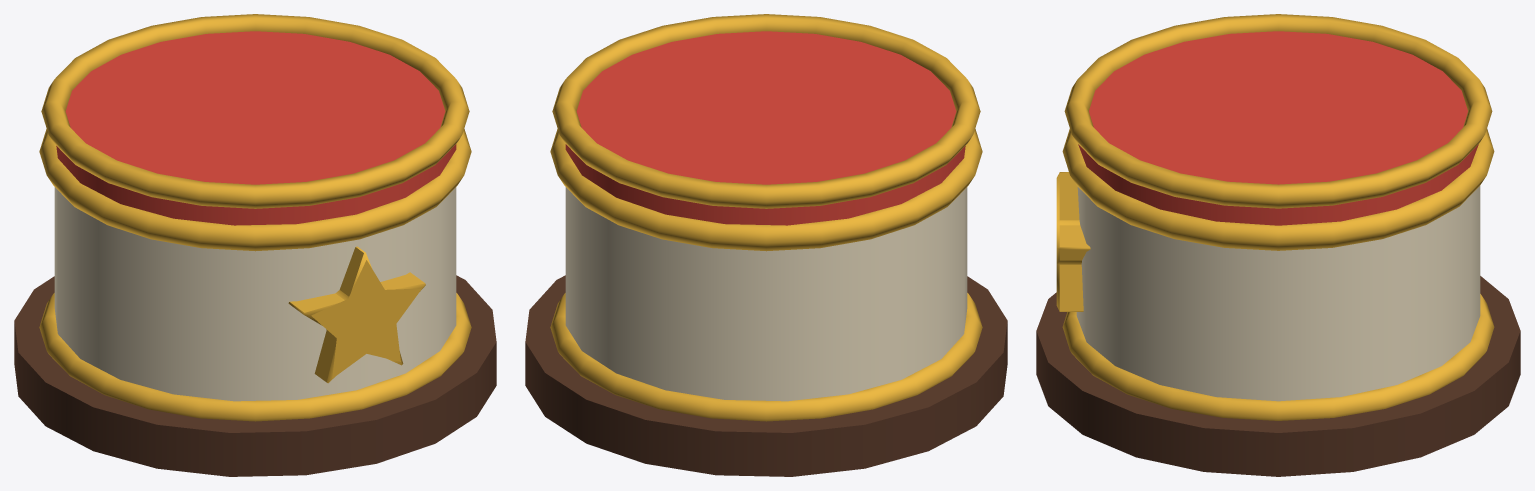
File: trophy_pedestal.glb
3 views of the same model, side by side, from view 1: azimuth 30°, elevation 25°; view 2: azimuth 150°, elevation 25°; view 3: azimuth 270°, elevation 25° (orthographic).
Parts seen in each view (by area): view 1: trophy_pedestal; view 2: trophy_pedestal; view 3: trophy_pedestal.
Part boxes in pixels (box(x1,y1,x2,y2)): trophy_pedestal: box(14, 14, 496, 476); trophy_pedestal: box(525, 14, 1007, 476); trophy_pedestal: box(1036, 14, 1520, 476).
Bounding box in the file's own units: 1.2 × 0.746 × 1.2.
